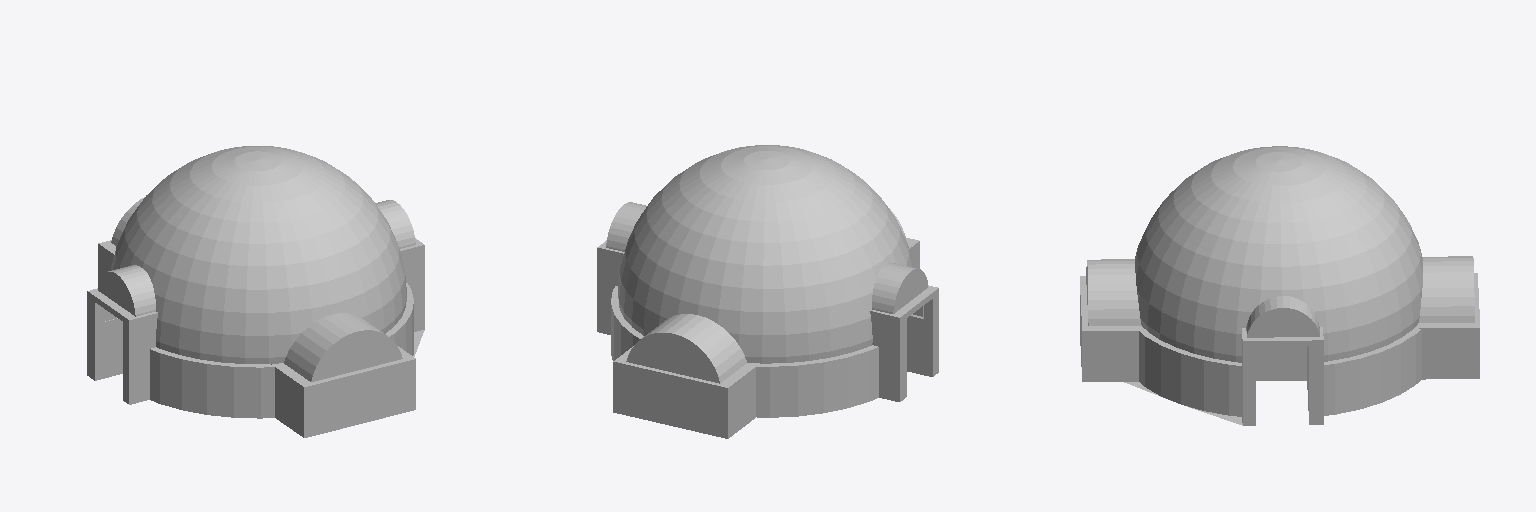
Rendered from house1.obj.
The picture shows the model from 3 angles: view 1: azimuth 30°, elevation 25°; view 2: azimuth 150°, elevation 25°; view 3: azimuth 270°, elevation 25°; orthographic projection.
Parts seen in each view (by area): view 1: house1_Booleano_Nulo__Cubo; view 2: house1_Booleano_Nulo__Cubo; view 3: house1_Booleano_Nulo__Cubo.
Part boxes in pixels (bbox=[...]): house1_Booleano_Nulo__Cubo: bbox=[87, 146, 424, 437]; house1_Booleano_Nulo__Cubo: bbox=[597, 145, 938, 438]; house1_Booleano_Nulo__Cubo: bbox=[1080, 146, 1479, 425].
Size of the model in its own units: 9.82 by 6.03 by 11.34.